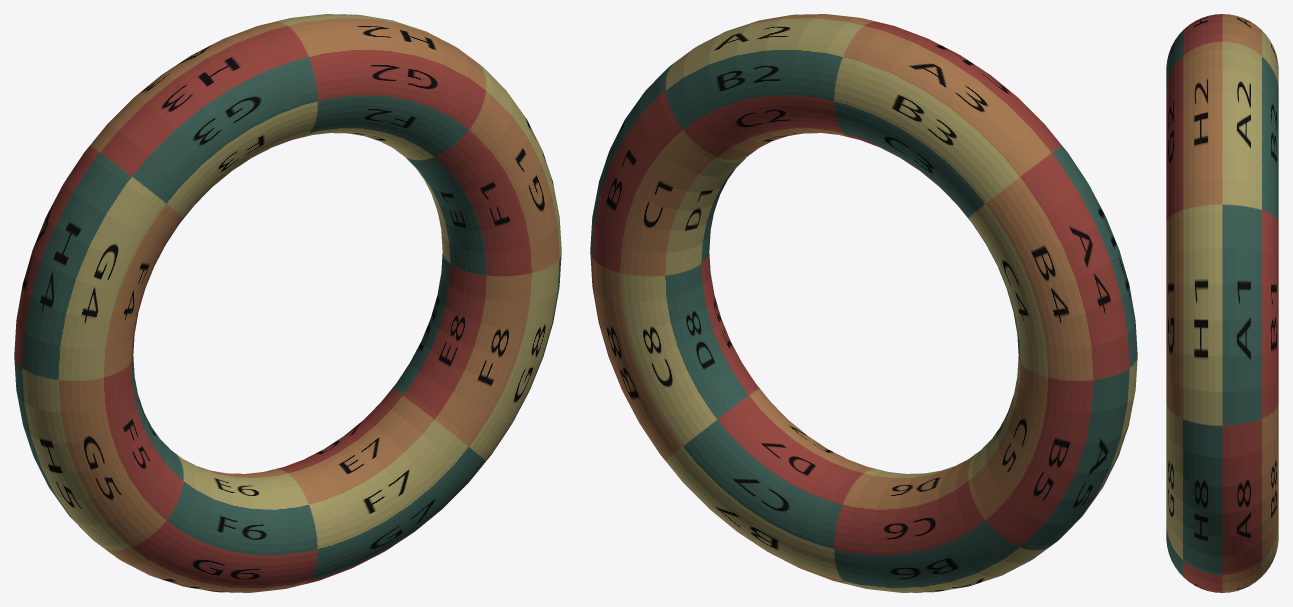
File: texture_torus_R29_r19.glb
The picture shows the model from 3 angles, left to right: view 1: azimuth 30°, elevation 25°; view 2: azimuth 150°, elevation 25°; view 3: azimuth 270°, elevation 25°; orthographic projection. The views are drawn at different scales.
Visible parts, largest first — view 1: world; view 2: world; view 3: world.
Boxes of the visible parts, x1,y1,x2,y2 form: world: (14, 14, 561, 592); world: (590, 14, 1137, 592); world: (1166, 14, 1278, 592).
Bounding box in the file's own units: 36.4 × 36.33 × 7.05.
Materials: 1 (1 with a texture image).
